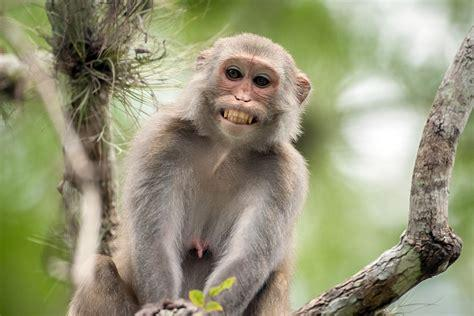monkey: (71, 35, 310, 316)
